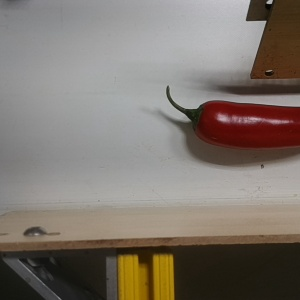Cut Point: (185, 99, 217, 142)
